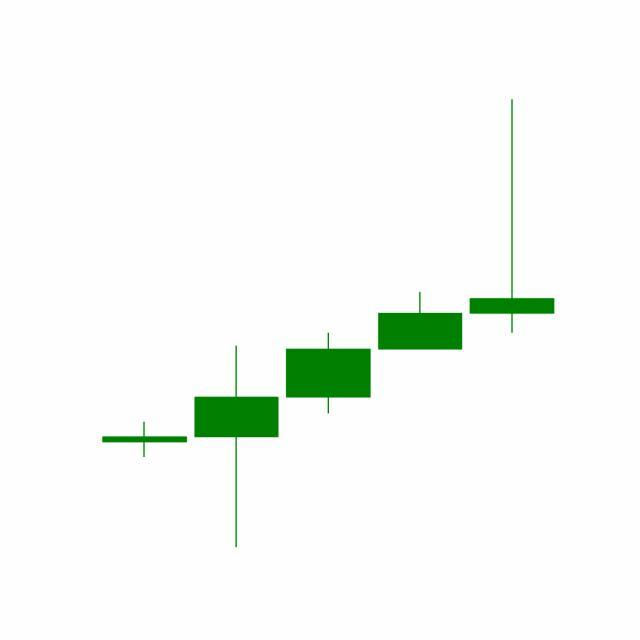Spinning Top: (466, 97, 559, 337)
